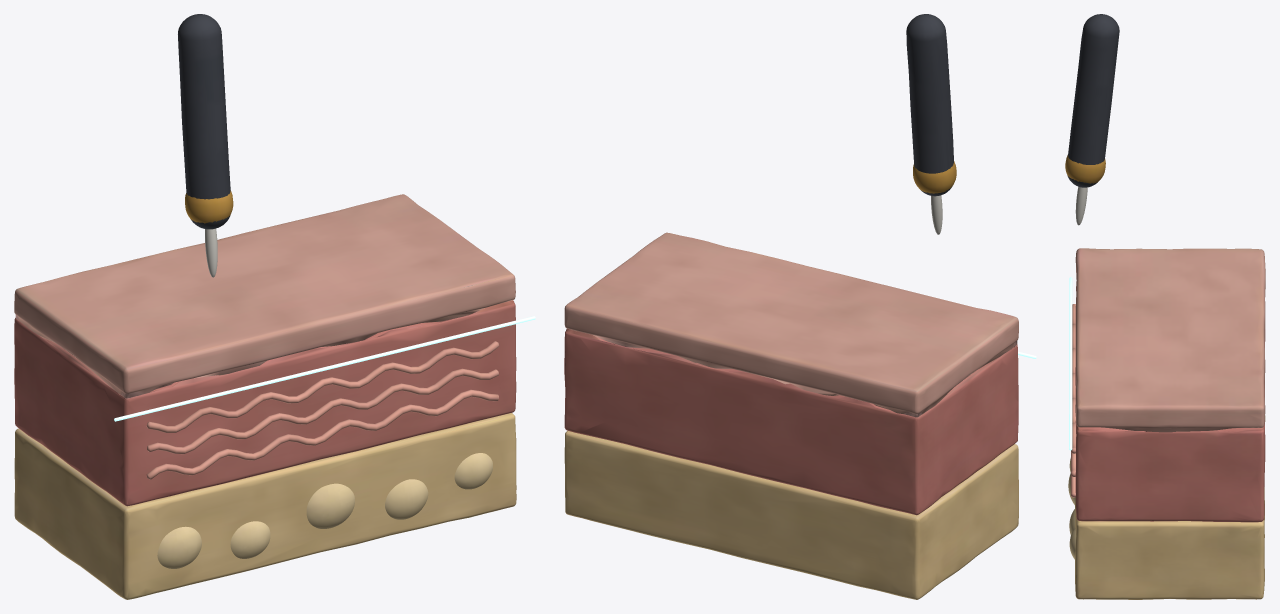
Rendered from capas-de-la-piel.mobile.glb.
3 renders of one model, left to right at view 1: azimuth 30°, elevation 25°; view 2: azimuth 150°, elevation 25°; view 3: azimuth 270°, elevation 25°, orthographic. The views are drawn at different scales.
Visible parts, largest first — view 1: Epidermis.002, Dermis.002, Hipodermis.002, Dermografo_cuerpo.001, Colageno_2, Colageno_0, Colageno_1, Franja_objetivo, Lobulo_2.001, Lobulo_0.001, Lobulo_3.001, Lobulo_1.001 (+2 smaller); view 2: Epidermis.002, Dermis.002, Hipodermis.002, Dermografo_cuerpo.001, Dermografo_anillo; view 3: Epidermis.002, Dermis.002, Hipodermis.002, Dermografo_cuerpo.001, Dermografo_anillo, Franja_objetivo, Colageno_2, Dermografo_aguja.
Part boxes in pixels (x1,y1,x2,y2): Epidermis.002: (14,194,515,398); Dermis.002: (14,300,516,506); Hipodermis.002: (14,413,516,599); Dermografo_cuerpo.001: (178,14,230,229); Colageno_2: (146,341,499,432); Colageno_0: (146,389,498,479); Colageno_1: (147,368,498,454); Franja_objetivo: (114,316,535,421); Lobulo_2.001: (306,483,354,528); Lobulo_0.001: (157,526,201,568); Lobulo_3.001: (385,479,428,519); Lobulo_1.001: (230,521,270,558); Epidermis.002: (564,232,1018,417); Dermis.002: (564,328,1018,515); Hipodermis.002: (564,431,1018,599); Dermografo_cuerpo.001: (906,14,953,196); Dermografo_anillo: (913,161,956,193); Epidermis.002: (1075,248,1265,432); Dermis.002: (1075,286,1265,522); Hipodermis.002: (1074,415,1265,599); Dermografo_cuerpo.001: (1067,14,1119,187); Dermografo_anillo: (1065,155,1105,183); Franja_objetivo: (1069,277,1072,450); Colageno_2: (1071,304,1076,453); Dermografo_aguja: (1075,186,1087,225).
Bounding box in the file's own units: 4.72 × 5.94 × 2.33.
Materials: 19 (18 with a texture image).
